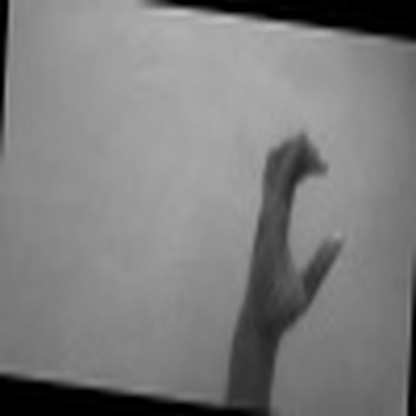c: (245, 119, 348, 326)
